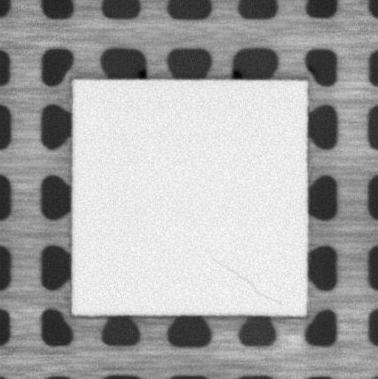DIE_CRACK: (211, 255, 282, 307)
